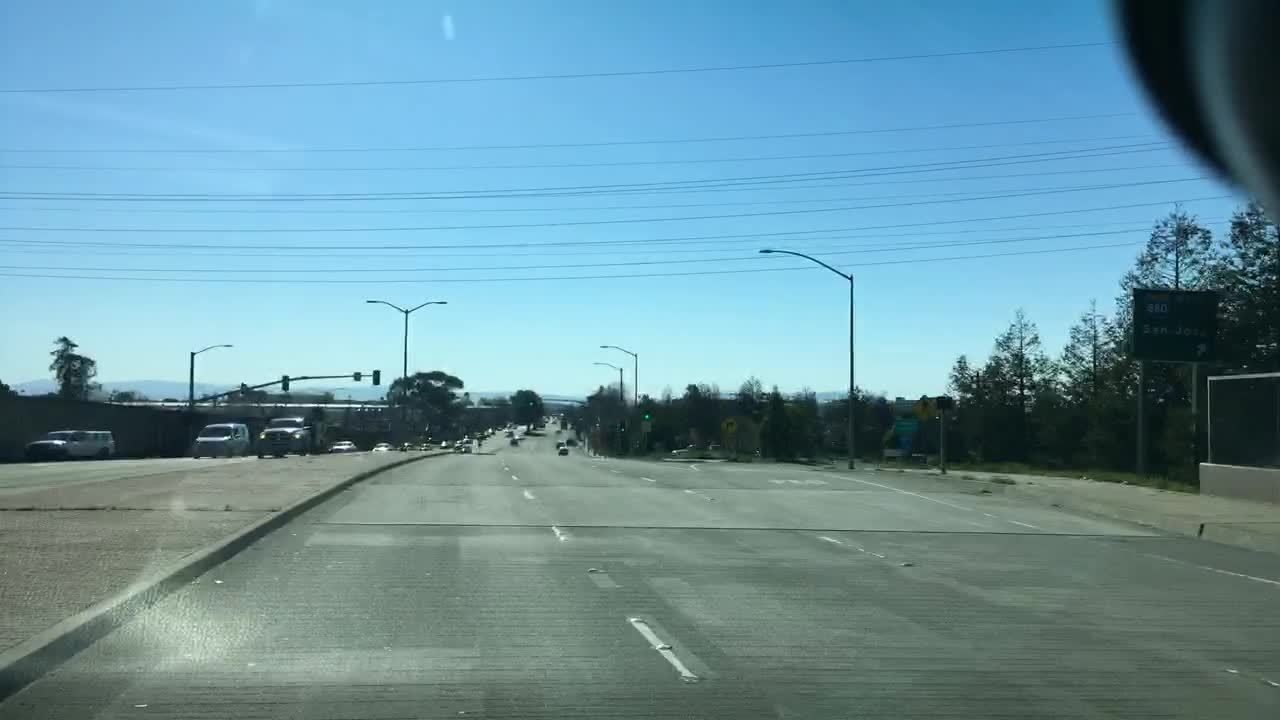car: (23, 430, 118, 459), (256, 415, 312, 455), (190, 422, 249, 457), (327, 437, 359, 452), (671, 440, 700, 455), (369, 440, 395, 452), (908, 449, 928, 462), (455, 442, 474, 454), (413, 440, 430, 452), (400, 440, 413, 454), (705, 440, 720, 452), (435, 437, 450, 449), (557, 442, 568, 455)
traffic light: (934, 397, 953, 410), (526, 390, 538, 407), (280, 373, 291, 390), (617, 415, 627, 432), (372, 370, 381, 387), (642, 405, 651, 421)
traffic sign: (1130, 285, 1218, 364), (892, 413, 921, 435), (719, 415, 739, 434)
